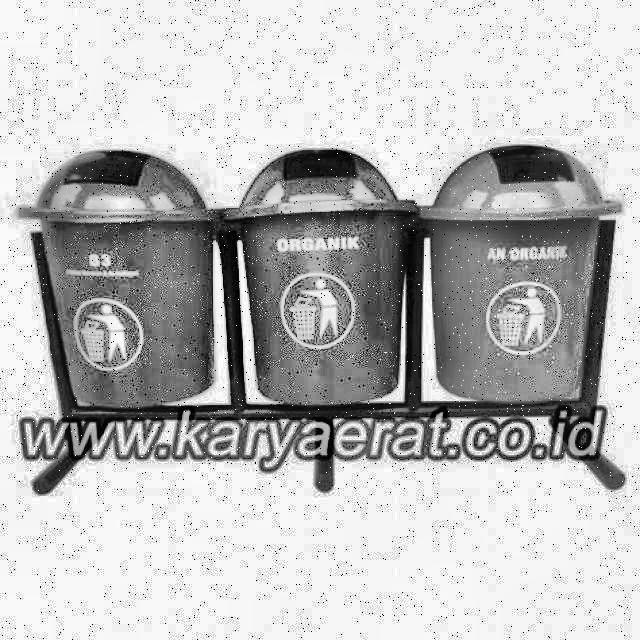Dustbin: (12, 135, 244, 405), (432, 132, 640, 410), (246, 141, 422, 410)
